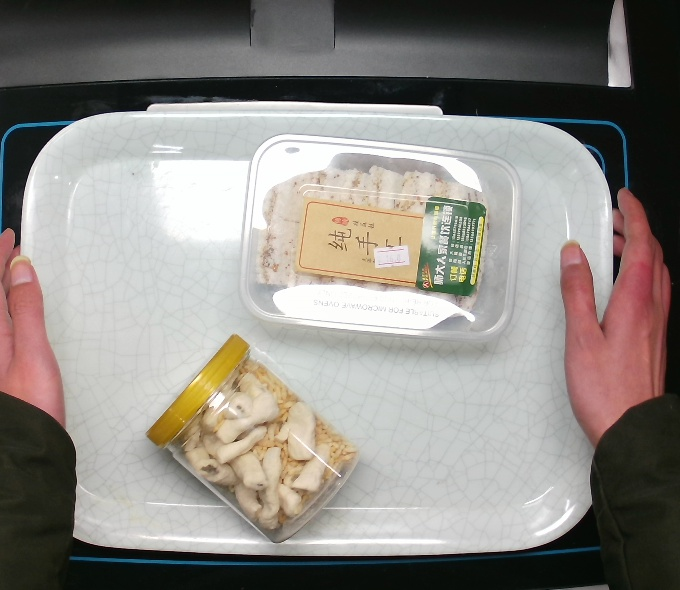wcq-GuiHuaGao: (236, 127, 526, 347)
wcq-MaiYaTang: (140, 330, 365, 549)
